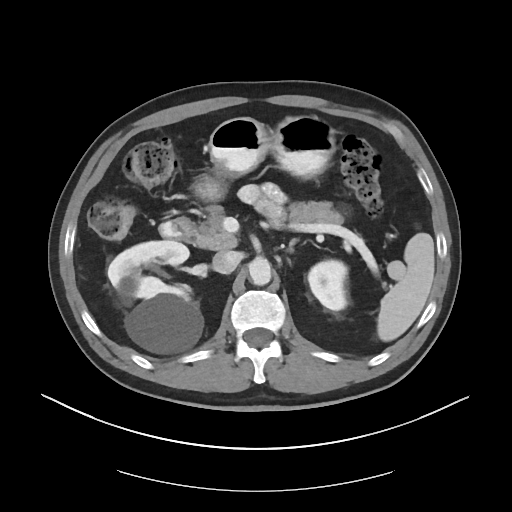Lesion: (119, 289, 206, 357)
